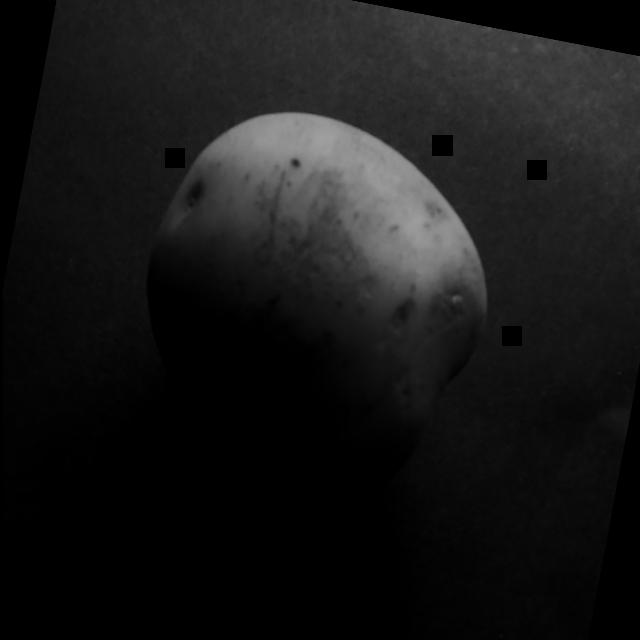Potato: (62, 42, 559, 566)
